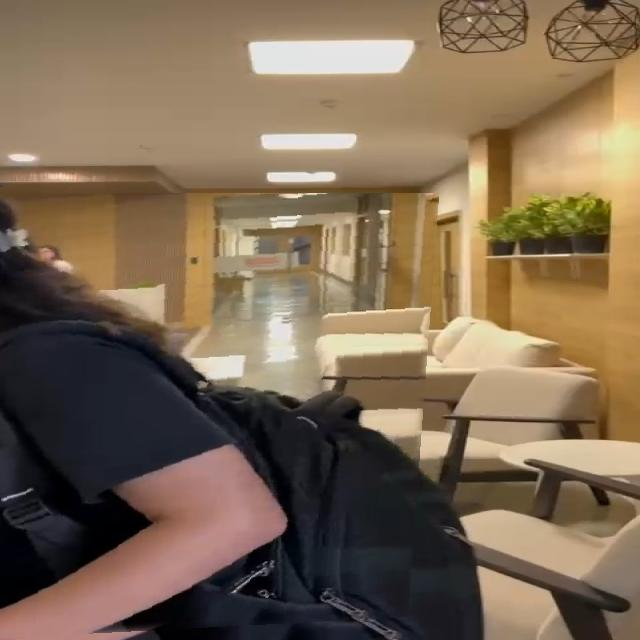moving_object: (0, 193, 441, 640)
